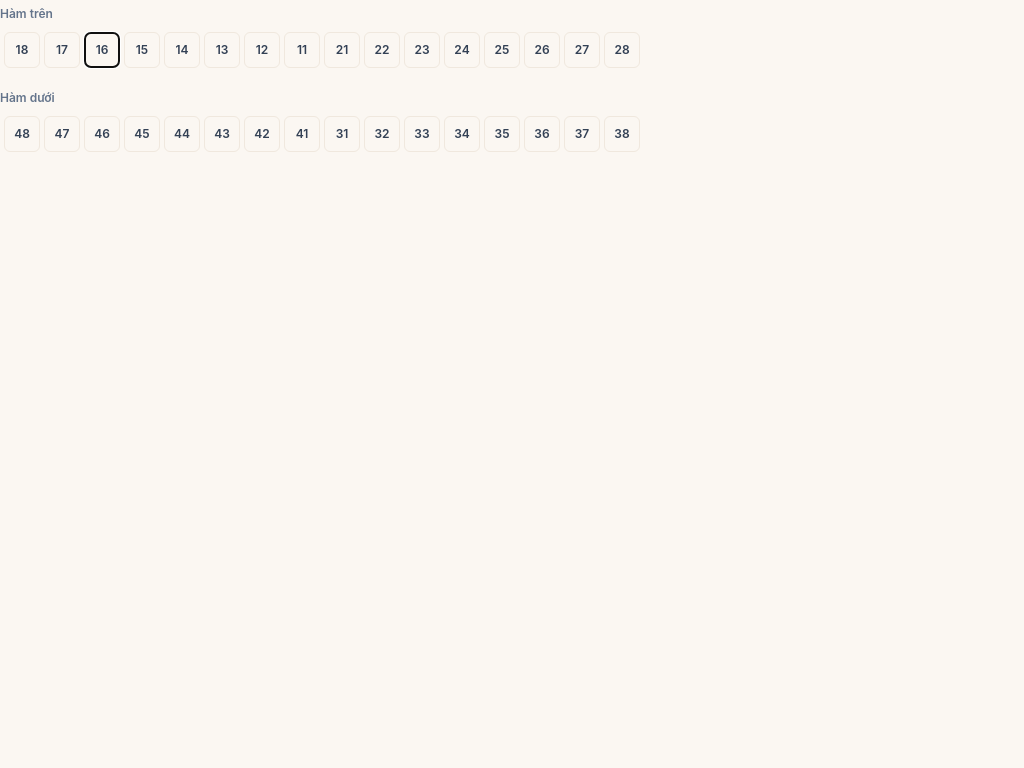
Test: DentalChart › closes the non-modal popover with Escape and restores focus to its tooth
Step 1. Click the button named "Răng 16" → [102, 50], box [84,32,120,68]
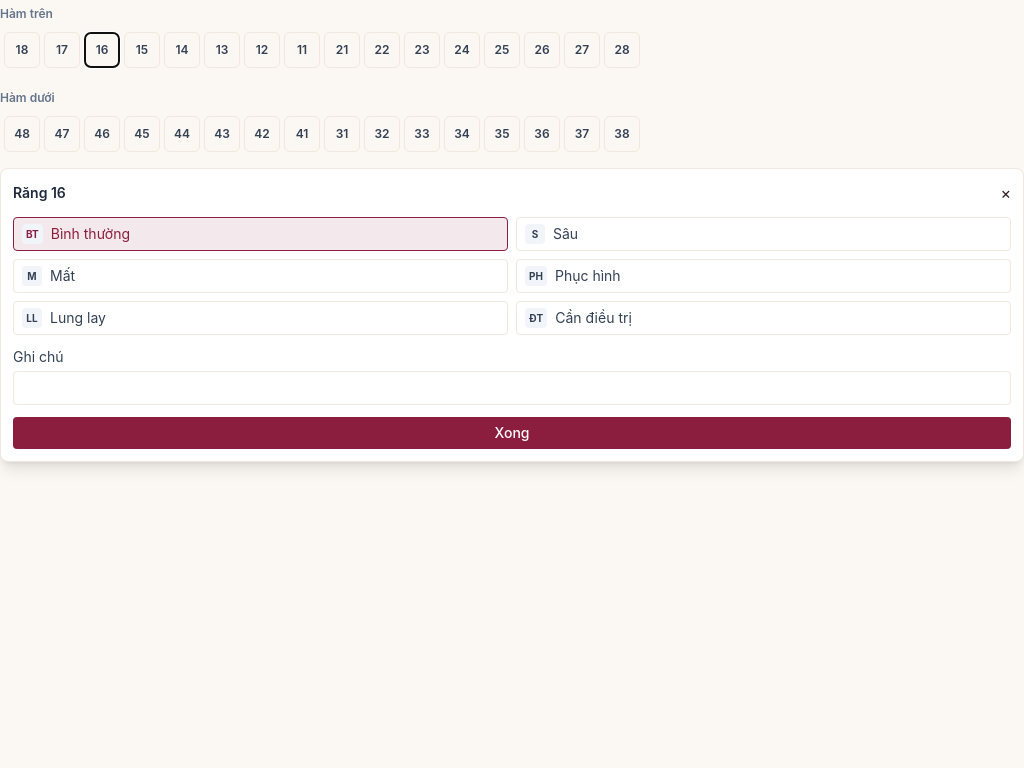
Check: the button "BT Bình thường" is shown, box [13,217,508,251]
Check: the button "S Sâu" is shown, box [516,217,1011,251]
Check: the button "M Mất" is shown, box [13,259,508,293]
Step 2. Press Escape in the button named "Răng 16", box [84,32,120,68]
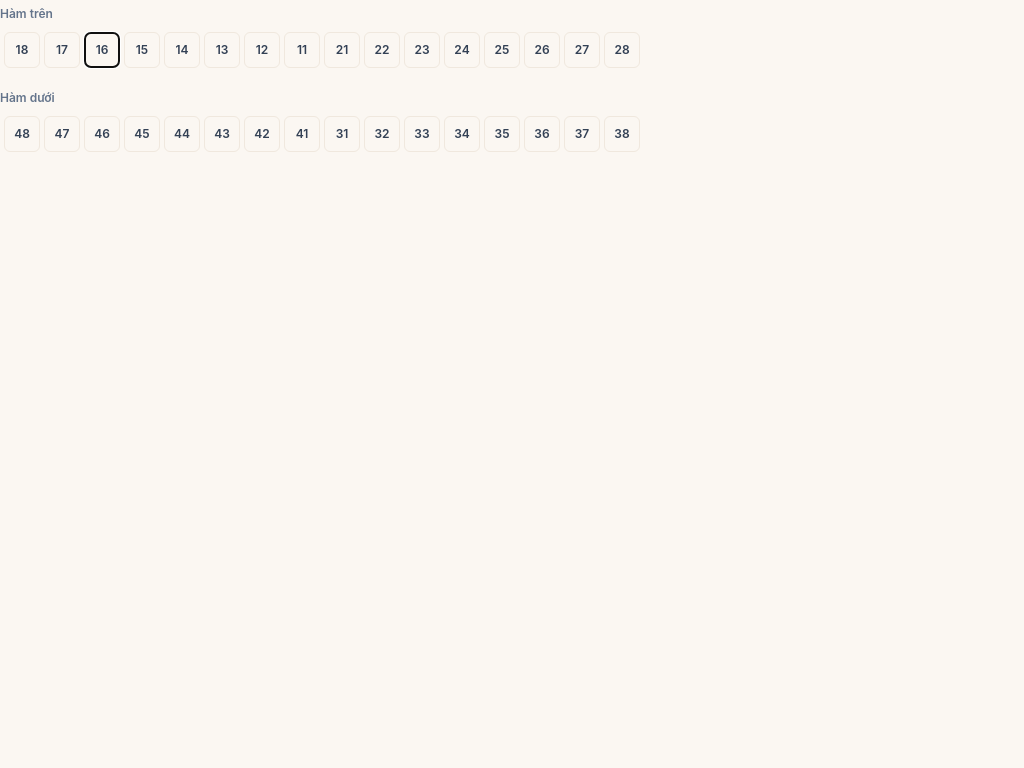
Check: the dialog is gone
